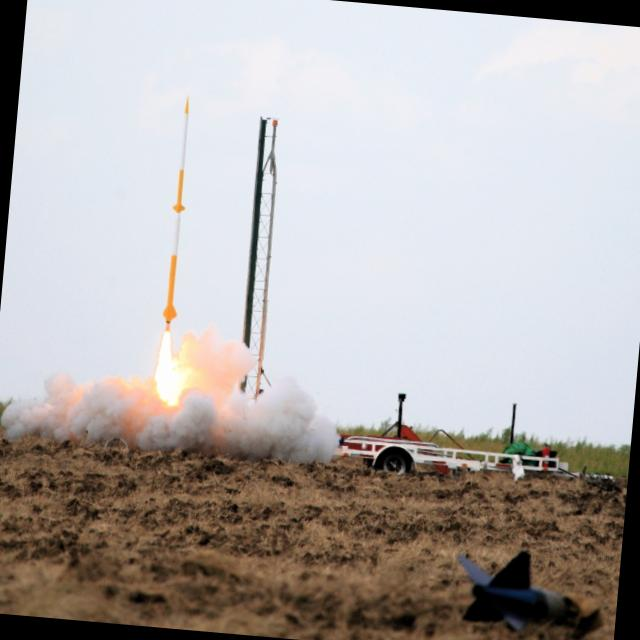rocket: (143, 88, 201, 406)
